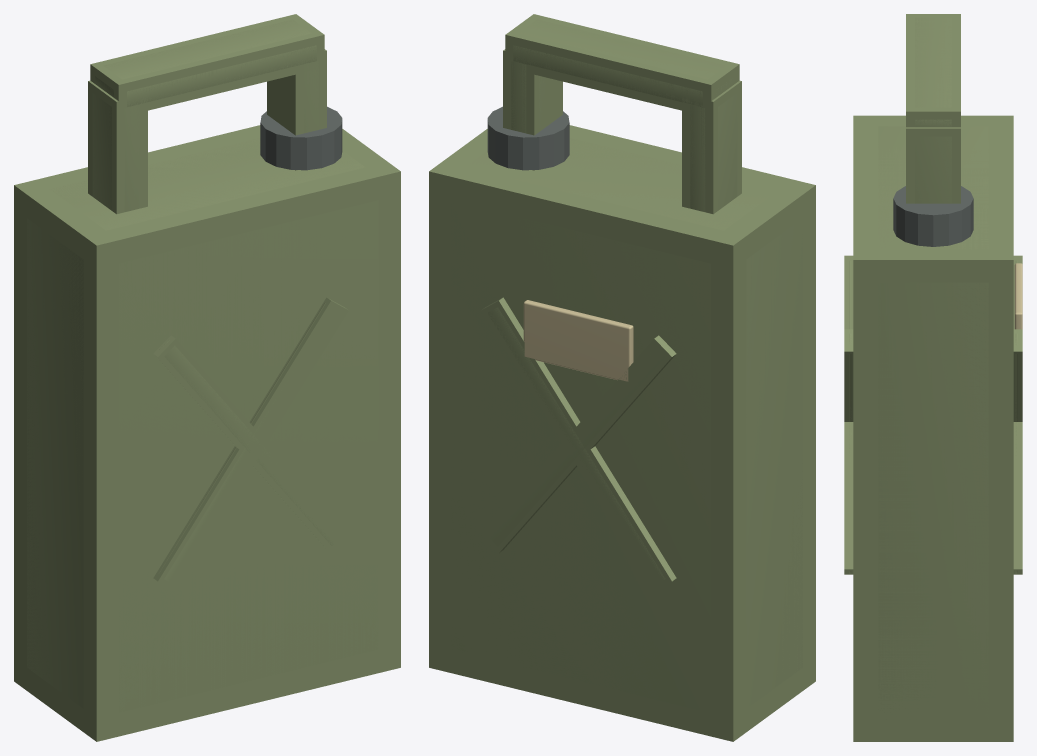
Rendered from FuelCan.glb.
3 renders of one model, left to right at view 1: azimuth 30°, elevation 25°; view 2: azimuth 150°, elevation 25°; view 3: azimuth 270°, elevation 25°, orthographic. The views are drawn at different scales.
Parts seen in each view (by area): view 1: LOD1_PropPaint, LOD0_PropPaint, LOD0_PropSteel; view 2: LOD1_PropPaint, LOD0_PropPaint, LOD0_PropMark, LOD0_PropSteel; view 3: LOD1_PropPaint, LOD0_PropPaint, LOD0_PropSteel, LOD0_PropMark.
Part boxes in pixels (x1,y1,x2,y2): LOD1_PropPaint: (14,14,400,741); LOD0_PropPaint: (27,19,378,712); LOD0_PropSteel: (260,106,342,170); LOD1_PropPaint: (429,14,815,741); LOD0_PropPaint: (451,19,802,712); LOD0_PropMark: (523,300,633,381); LOD0_PropSteel: (487,106,569,170); LOD1_PropPaint: (844,14,1022,741); LOD0_PropPaint: (849,17,1017,719); LOD0_PropSteel: (893,186,973,246); LOD0_PropMark: (1014,263,1022,329).
Size of the model in its own units: 0.34 by 0.6675 by 0.178.
